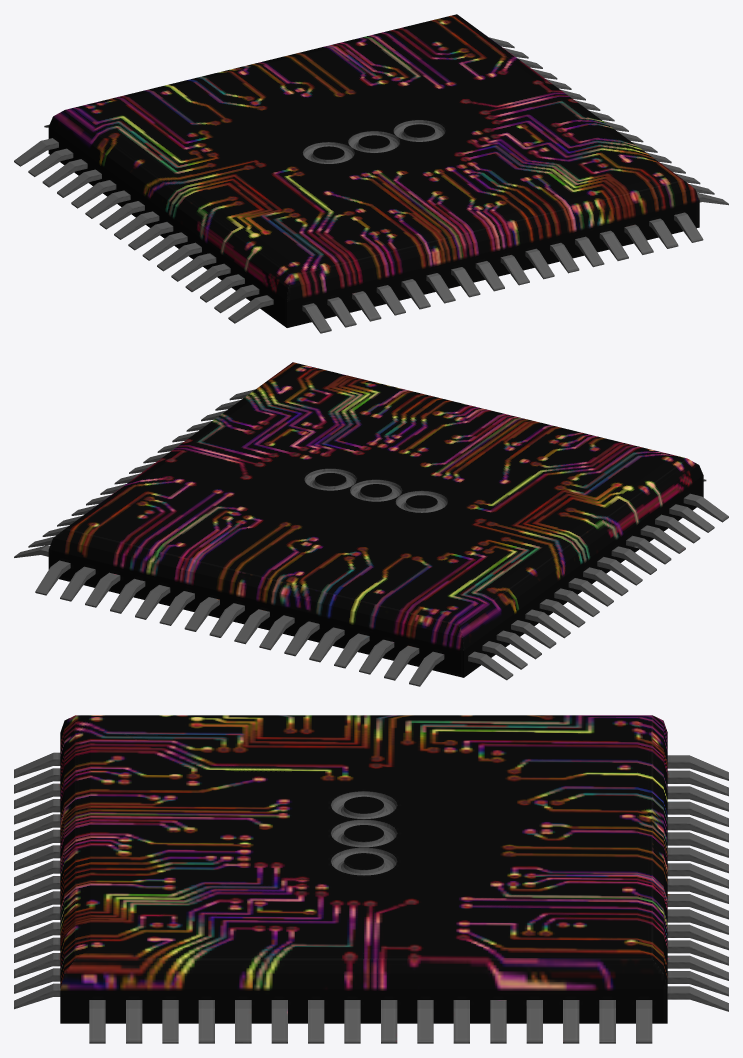
File: chip.glb
The picture shows the model from 3 angles, top to bottom: view 1: azimuth 30°, elevation 25°; view 2: azimuth 150°, elevation 25°; view 3: azimuth 270°, elevation 25°; orthographic projection. The views are drawn at different scales.
Parts seen in each view (by area): view 1: Object_2; view 2: Object_2; view 3: Object_2.
Boxes of the visible parts, x1=… form: Object_2: x1=14, y1=14, x2=728, y2=333; Object_2: x1=14, y1=362, x2=728, y2=686; Object_2: x1=14, y1=715, x2=728, y2=1043.
Bounding box in the file's own units: 2.38 × 0.2251 × 2.35.
Materials: 1 (1 with a texture image).
